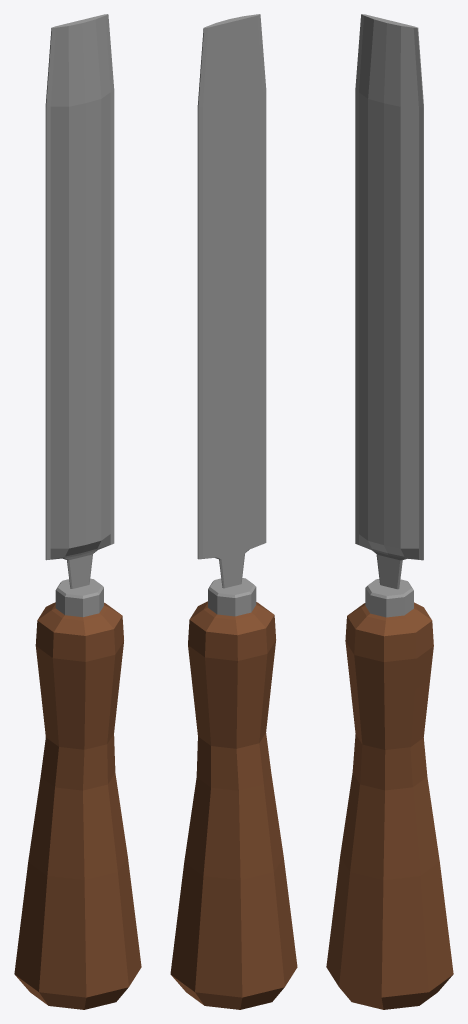
The model's file is rasp01.gltf.
3 renders of one model, left to right at view 1: azimuth 30°, elevation 25°; view 2: azimuth 210°, elevation 25°; view 3: azimuth 330°, elevation 25°, orthographic.
Parts seen in each view (by area): view 1: Cylinder; view 2: Cylinder; view 3: Cylinder.
Part boxes in pixels (x1,y1,x2,y2): Cylinder: [14, 14, 141, 1009]; Cylinder: [170, 14, 297, 1009]; Cylinder: [326, 14, 453, 1009].
Bounding box in the file's own units: 0.0226 × 0.2037 × 0.0226.
1 material, 1 textured.
